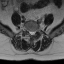CCS_normal: (31, 29, 33, 37)
LFS_normal: (35, 27, 37, 34)
LLS_normal: (33, 29, 35, 36)
RFS_stenosis: (27, 27, 29, 34)
RLS_normal: (29, 29, 31, 36)
